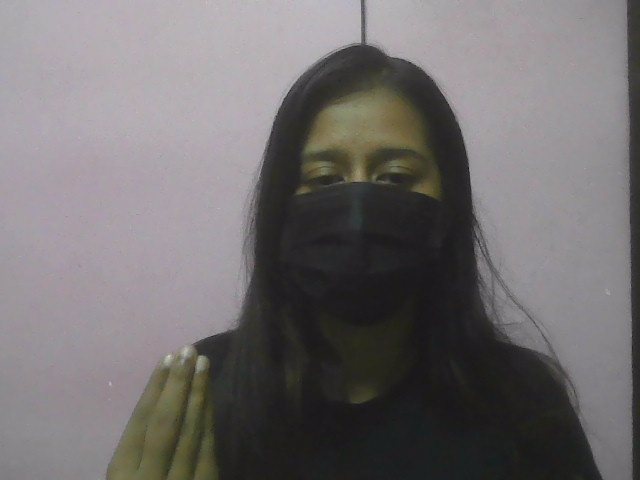Morning: (96, 342, 233, 479)
